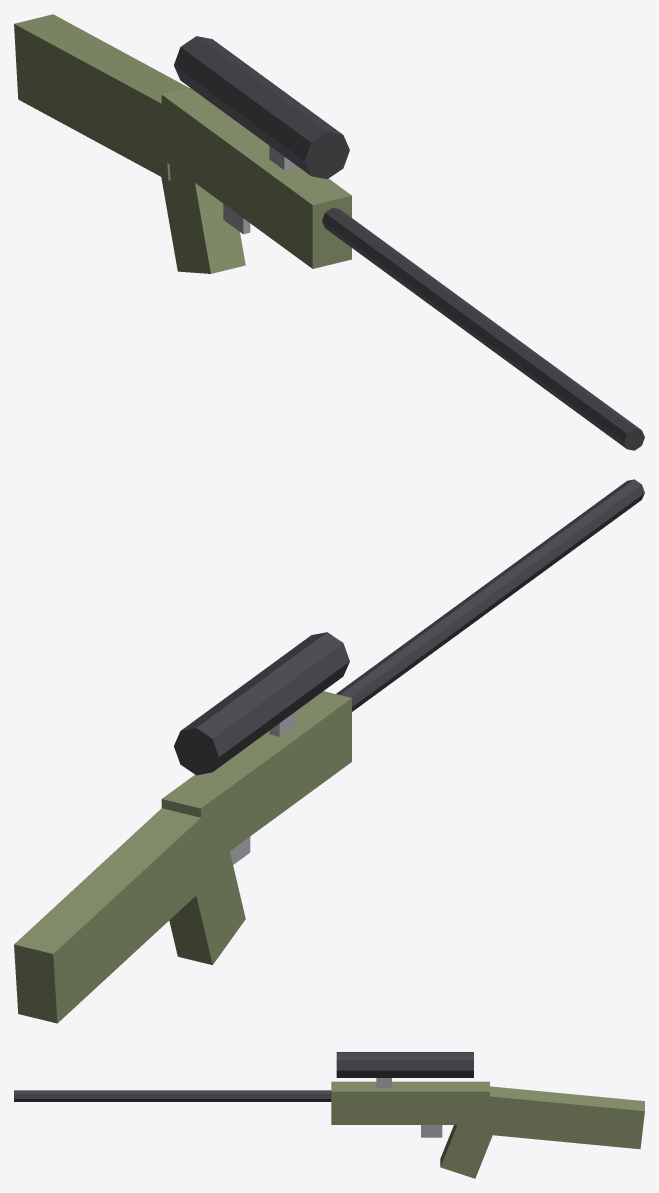
Rendered from Sniper.fbx.
3 renders of one model, top to bottom at view 1: azimuth 30°, elevation 25°; view 2: azimuth 150°, elevation 25°; view 3: azimuth 270°, elevation 25°, orthographic. The views are drawn at different scales.
Visible parts, largest first — view 1: Sniper; view 2: Sniper; view 3: Sniper.
Part boxes in pixels (x1,y1,x2,y2): Sniper: [14, 14, 644, 450]; Sniper: [14, 479, 644, 1023]; Sniper: [14, 1052, 644, 1178].
Size of the model in its own units: 0.052 by 0.2544 by 1.19.
